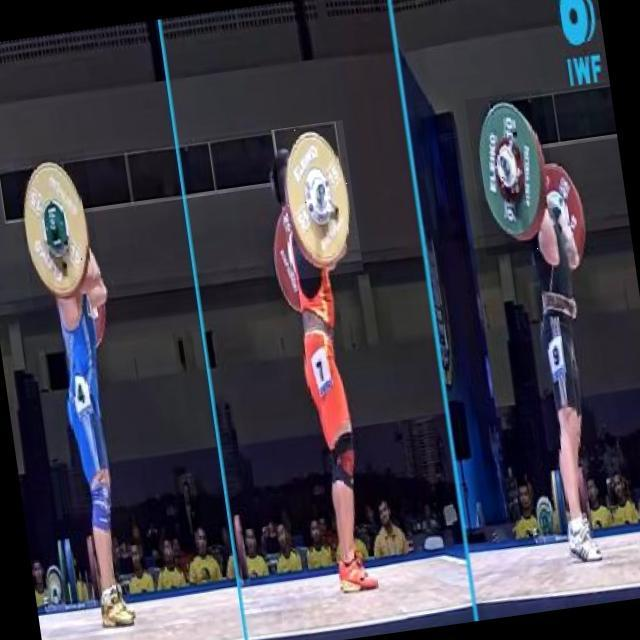barbell: (466, 90, 564, 257), (272, 121, 365, 284), (14, 150, 106, 311)
